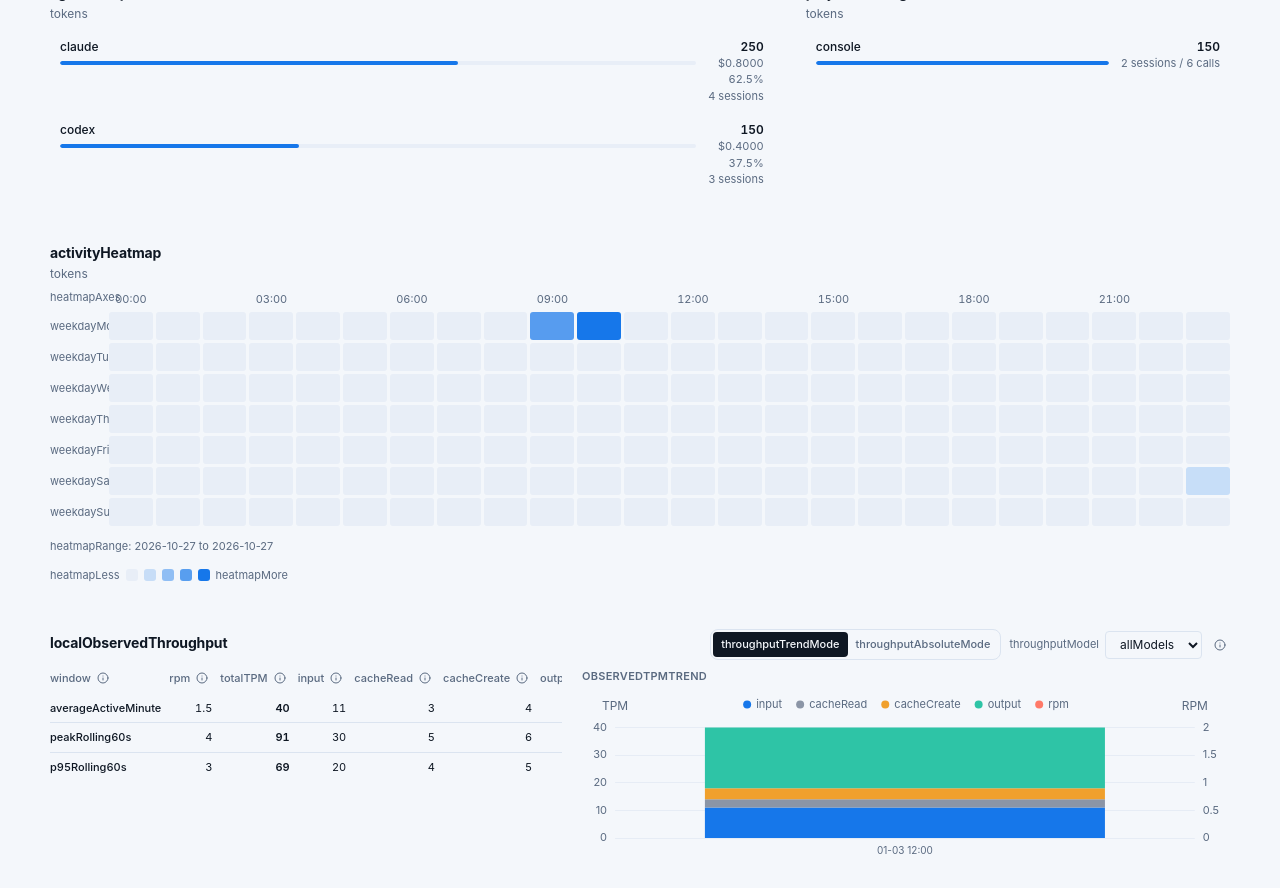
Test: Dashboard overview › exposes throughput help as hoverable and keyboard-focusable tooltips
(page scrolled)
Expected: the element with test id "throughput-matrix" is shown, x1=50 y1=668 x2=562 y2=782
Expected: the tooltip "localObservedThroughputHelp" is not shown
Hover over the button named "localObservedThroughputHelp" at {"x": 1220, "y": 645}, box x1=1210 y1=635 x2=1230 y2=655
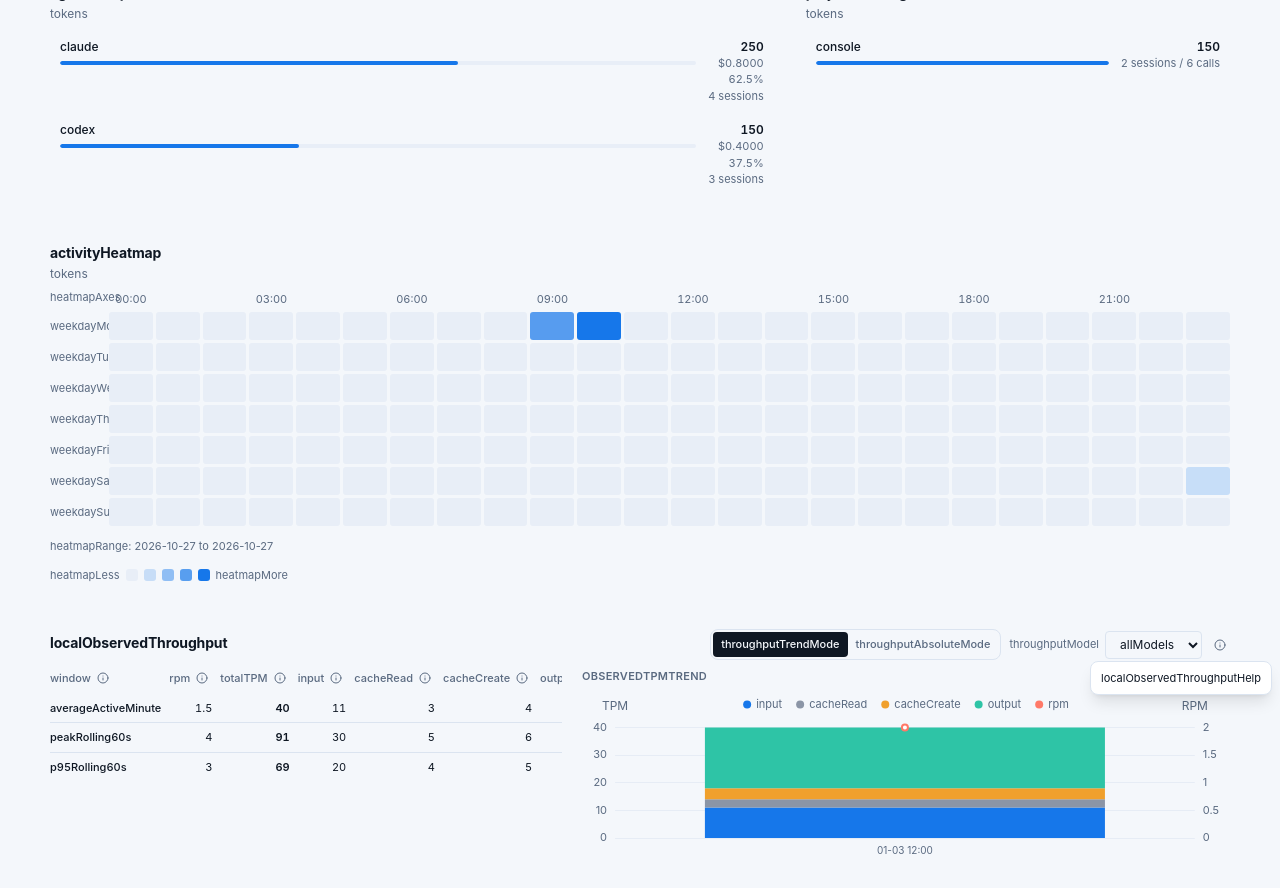
Now the tooltip "localObservedThroughputHelp" is shown, box x1=1090 y1=661 x2=1272 y2=695
Move the pointer off the button named "localObservedThroughputHelp", box x1=1210 y1=635 x2=1230 y2=655
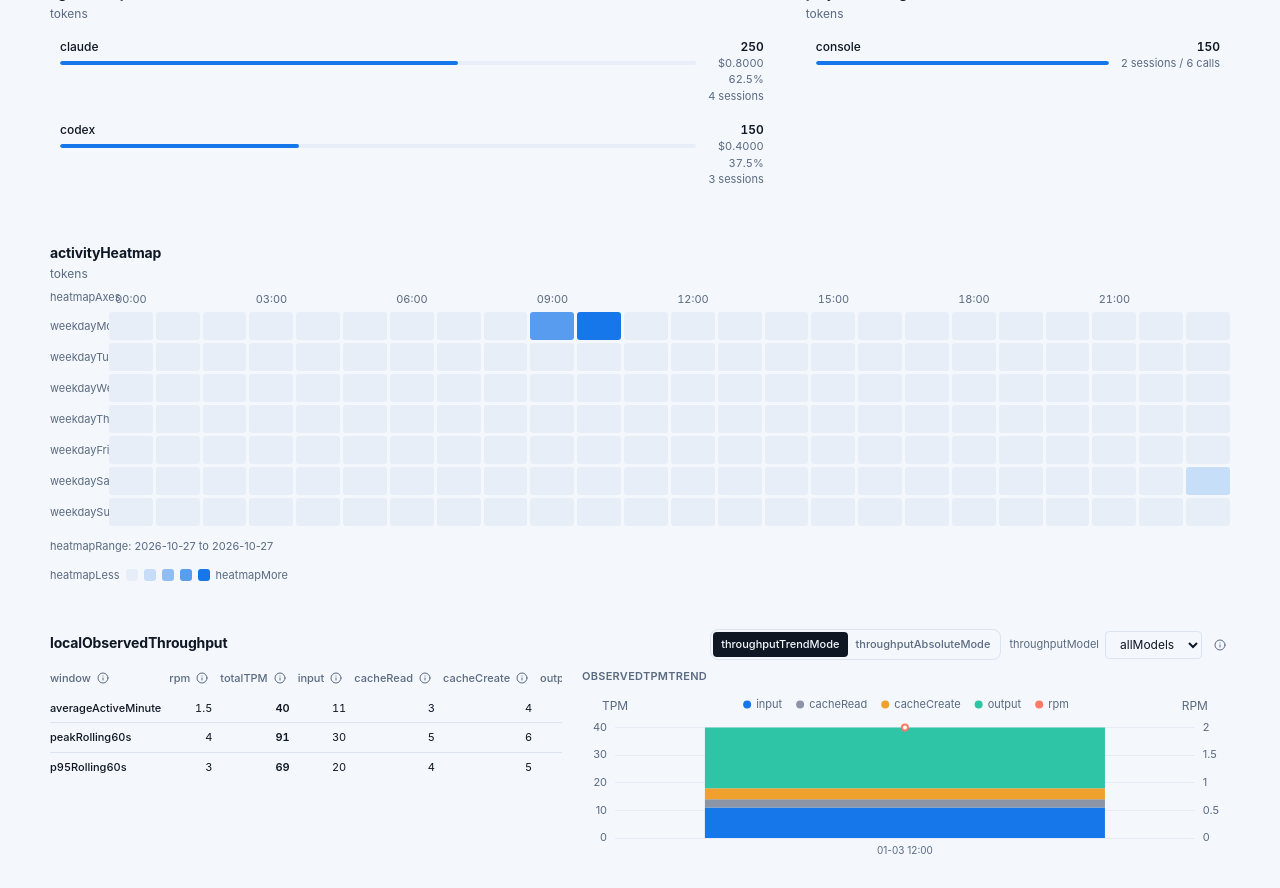
Click the button named "cacheReadTPMHelp" at {"x": 425, "y": 678}, box x1=415 y1=668 x2=435 y2=688
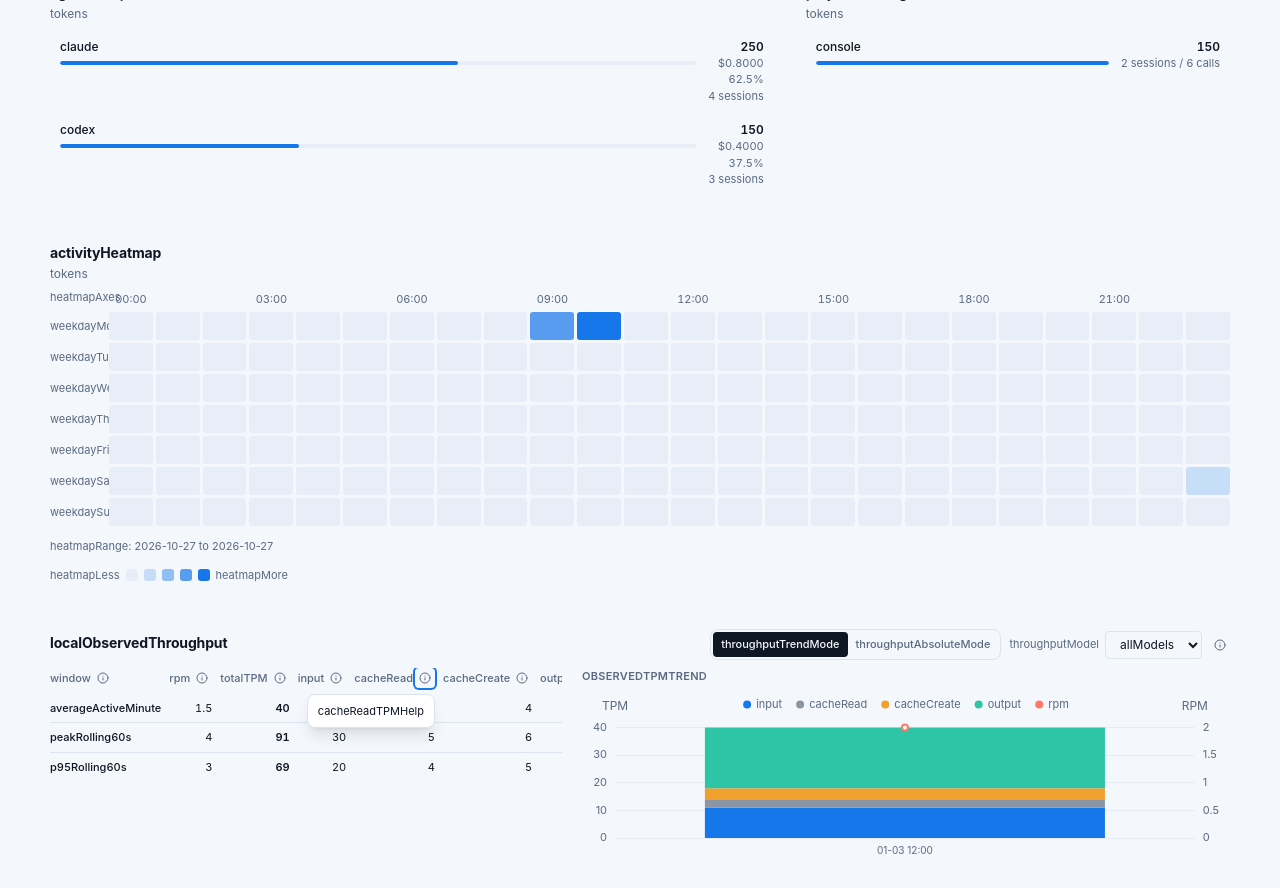
Now the tooltip "cacheReadTPMHelp" is shown, box x1=307 y1=694 x2=435 y2=728
